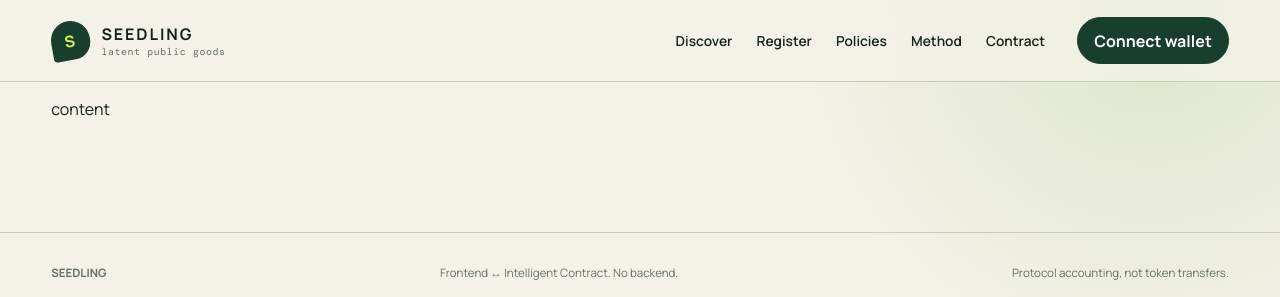
Scenario: wallet stays in sync with the injected provider › follows an account switch made in the wallet
Click the button "Connect wallet": (1153, 40) [1077,17,1229,64]
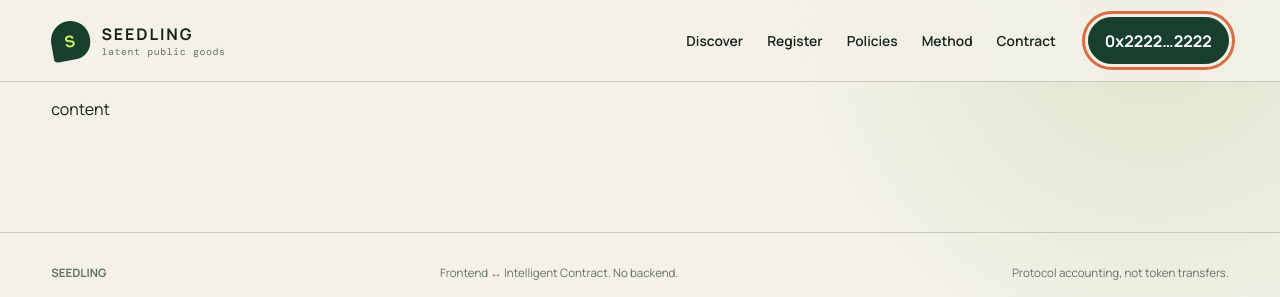
Expected: the button "0x2222…2222" is shown, [1088,17,1229,64]
